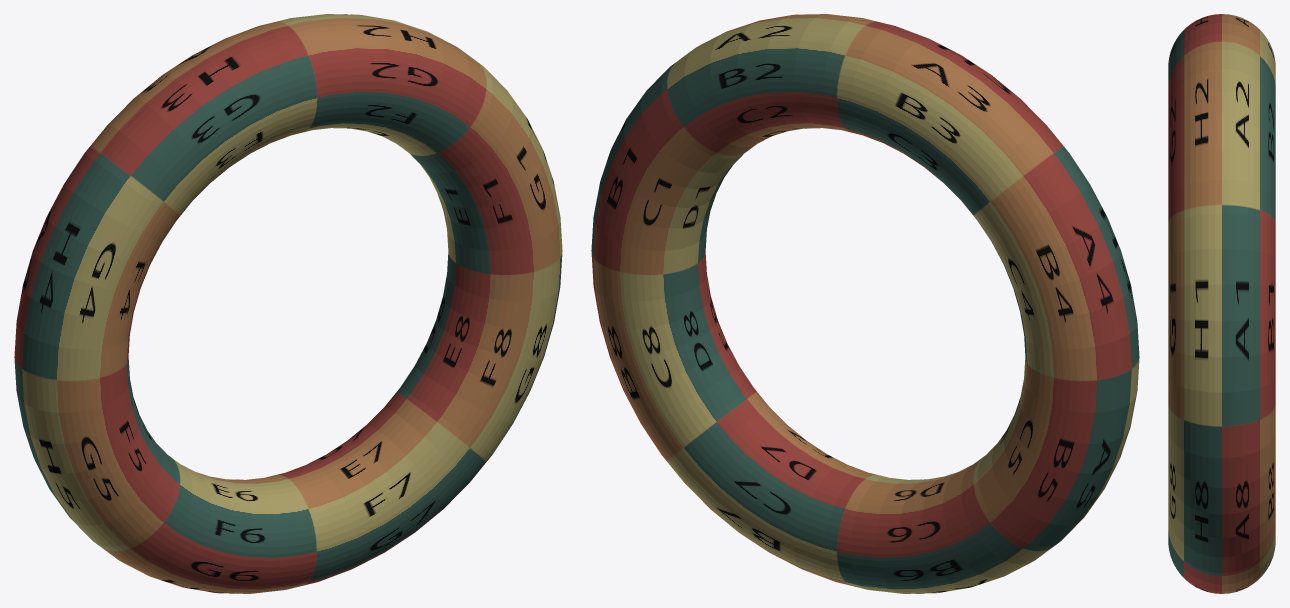
Rendered from texture_torus_R28_r17.glb.
3 views of the same model, side by side, from view 1: azimuth 30°, elevation 25°; view 2: azimuth 150°, elevation 25°; view 3: azimuth 270°, elevation 25° (orthographic). The views are drawn at different scales.
Parts seen in each view (by area): view 1: world; view 2: world; view 3: world.
Boxes of the visible parts, <box> form: world: <box>14,14,562,593</box>; world: <box>591,14,1139,593</box>; world: <box>1168,14,1275,593</box>.
Bounding box in the file's own units: 35.2 × 35.13 × 6.52.
Materials: 1 (1 with a texture image).
